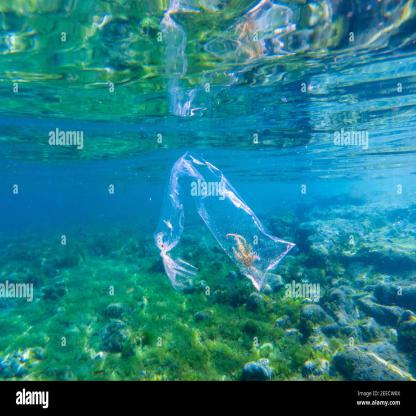plastic-bag: (159, 155, 292, 293)
